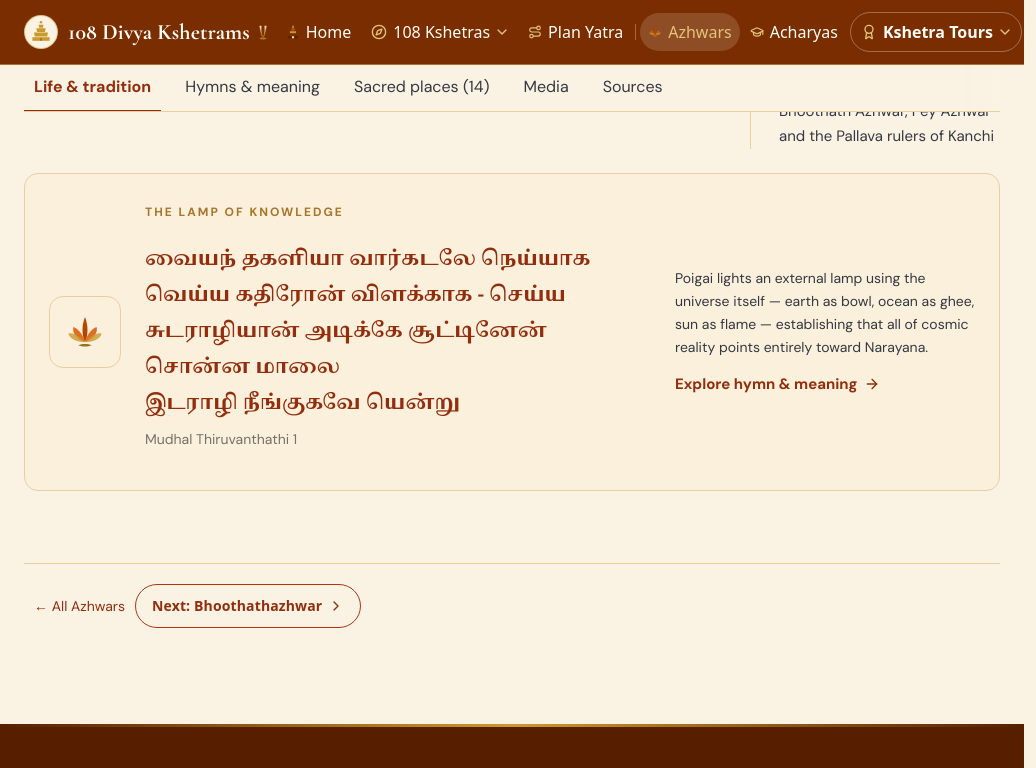
Test case: AzhwarDetailPage (UT-AZW-03, FR-90; 2026-10-01 poigai mock restyle) › jumps to the hymns tab from the lamp-of-knowledge band
(page scrolled)
Click the button "Explore hymn & meaning": coordinates (777, 384) [675, 372, 880, 396]
(page scrolled)
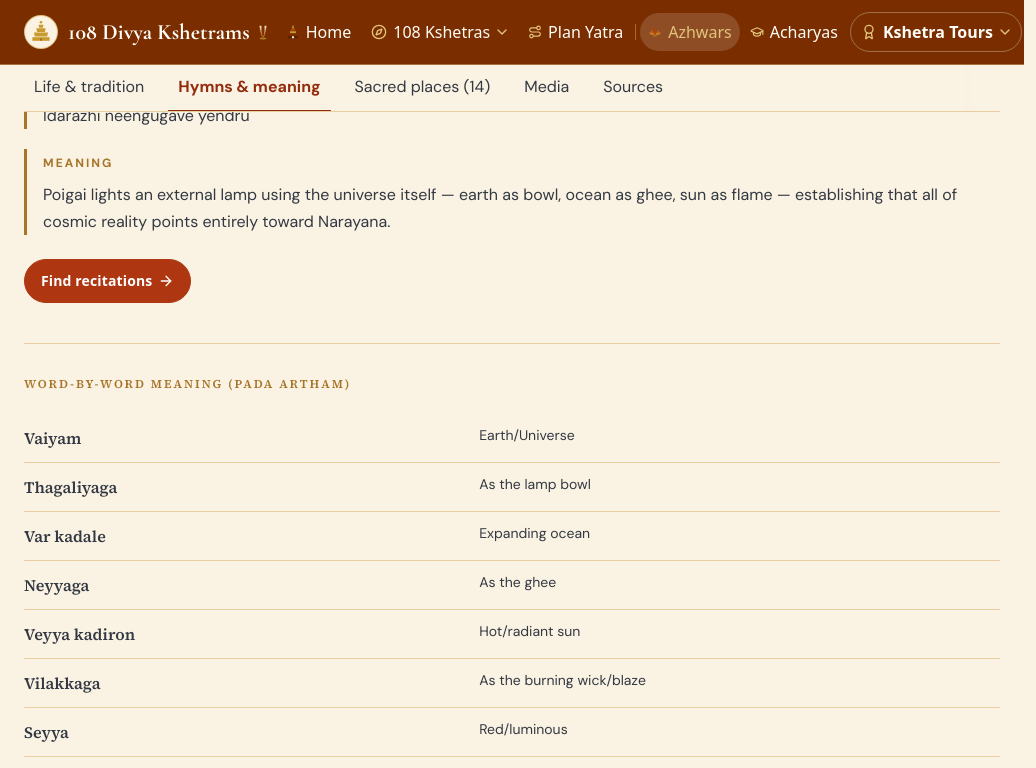
Expected: the heading "Word-by-word meaning (Pada Artham)" is shown, [24, 376, 352, 392]
